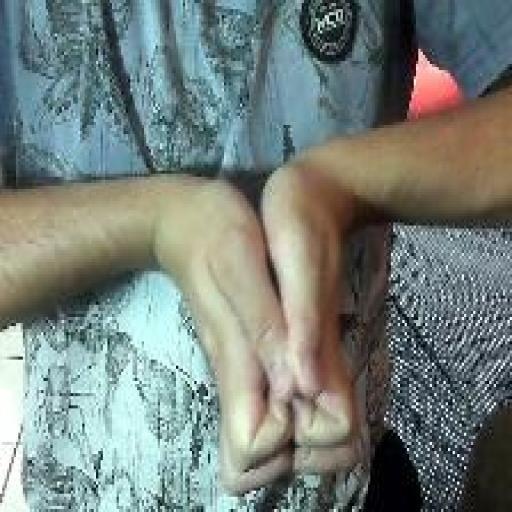I -boar-: (173, 166, 362, 498)
